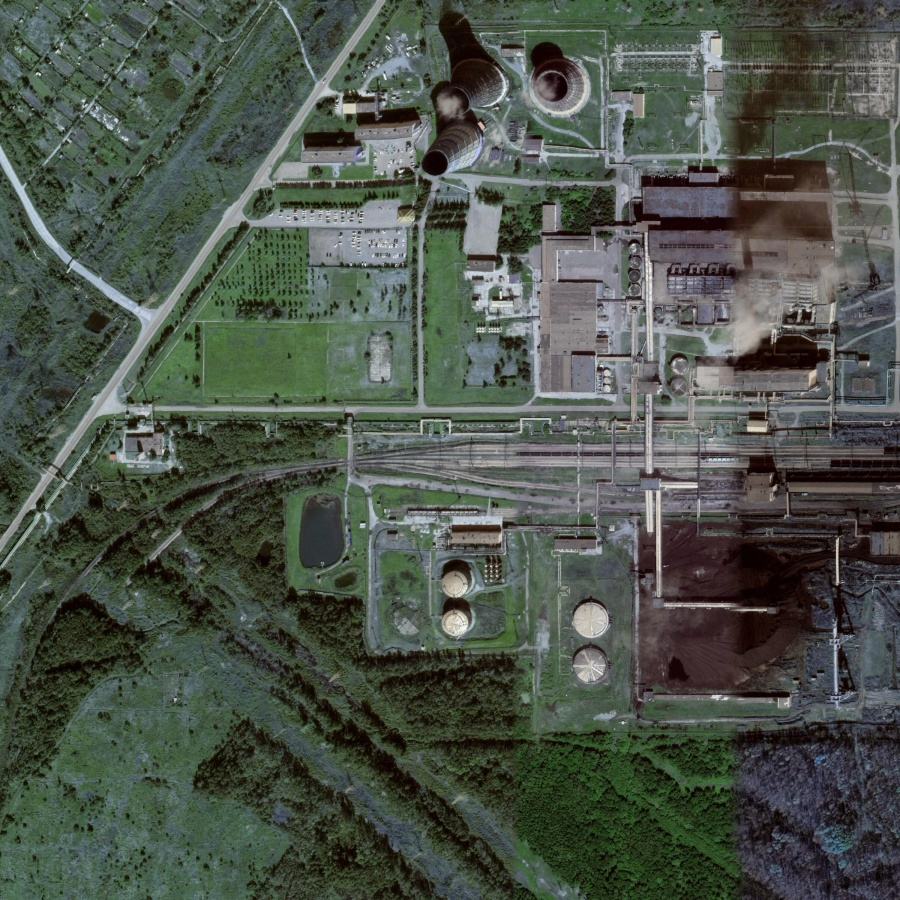PowerPlant: (400, 18, 889, 714)
